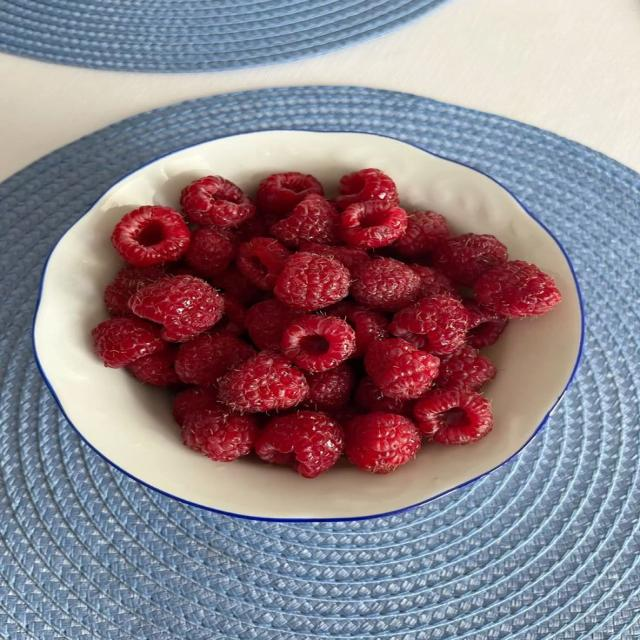raspberry: (129, 276, 223, 341), (255, 411, 343, 477), (219, 352, 308, 412), (474, 261, 560, 317), (390, 295, 469, 354), (345, 412, 420, 473), (112, 207, 189, 266), (365, 338, 439, 399), (274, 252, 350, 311), (414, 389, 493, 444), (280, 315, 355, 372), (175, 333, 255, 386), (182, 406, 258, 461), (432, 233, 507, 287), (180, 176, 254, 227), (351, 258, 420, 311), (271, 194, 339, 247), (92, 318, 164, 367), (327, 301, 388, 357), (340, 201, 406, 248), (105, 266, 166, 315), (257, 173, 323, 217), (237, 238, 291, 290), (246, 299, 300, 350), (436, 346, 496, 390), (394, 211, 449, 259), (334, 169, 398, 210), (184, 228, 236, 278), (304, 364, 354, 411), (354, 377, 413, 416), (128, 345, 179, 386), (465, 300, 507, 349), (300, 243, 371, 271), (211, 265, 260, 304), (174, 387, 221, 426), (410, 265, 458, 297), (216, 293, 246, 335), (234, 214, 268, 242), (329, 405, 361, 426), (165, 260, 199, 277)
